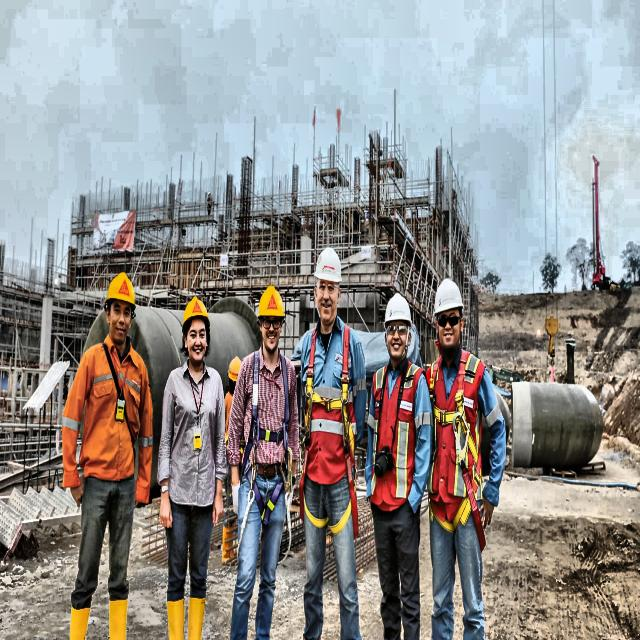safety_helmet: (96, 266, 140, 314), (252, 280, 286, 330), (314, 238, 345, 292), (432, 271, 461, 325), (175, 298, 212, 336), (378, 297, 412, 335)
safety_jacket: (423, 351, 496, 508), (305, 321, 358, 503), (365, 362, 417, 504)
